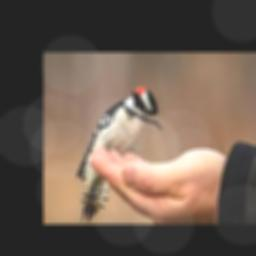Woodpecker: (76, 85, 163, 223)
